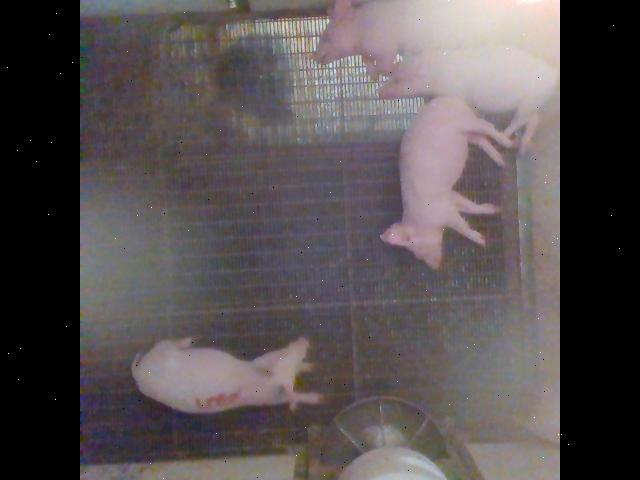pig-3: (132, 338, 322, 411)
